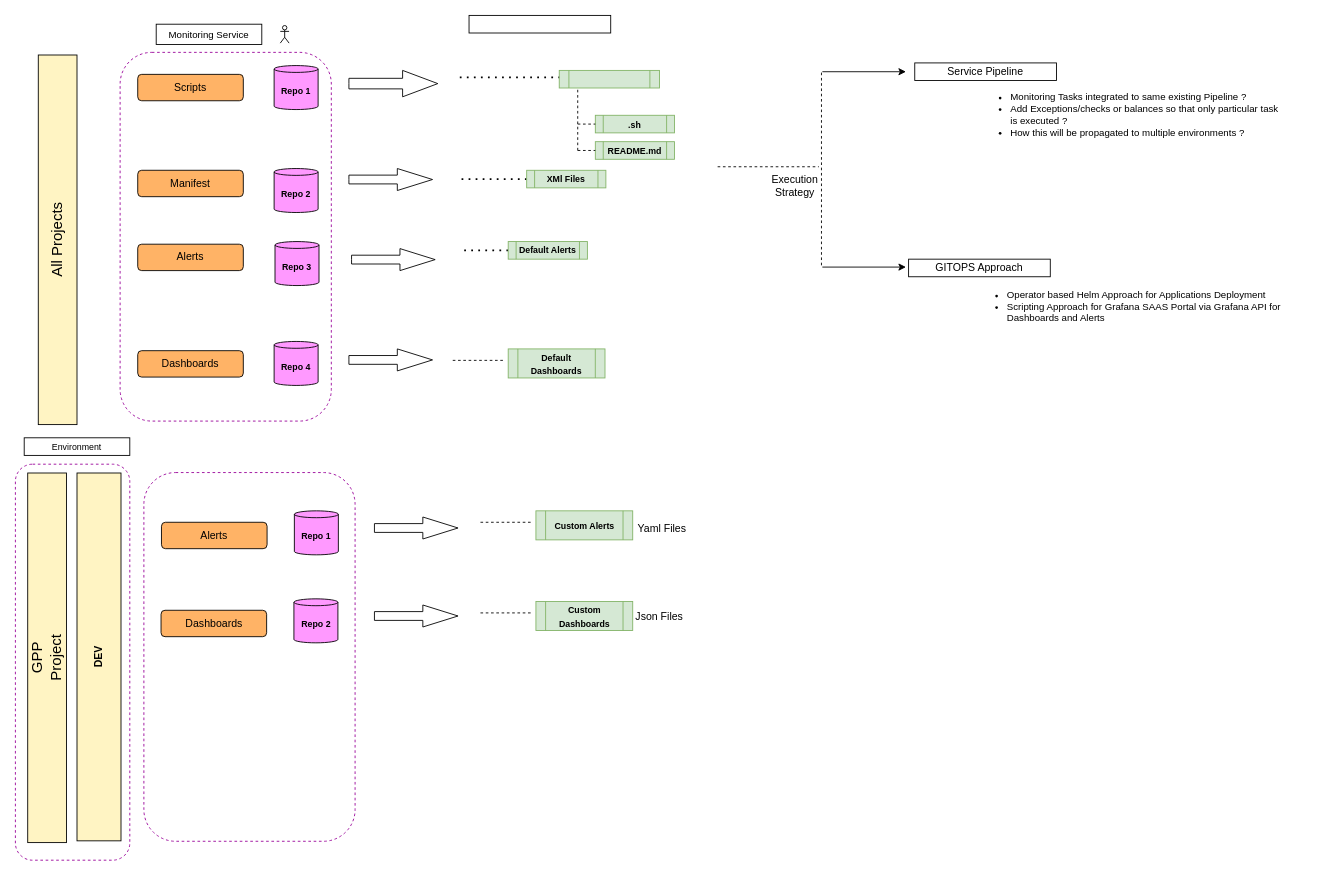
Image size: 1343x876. Some labels were removed from this diagram. Here are the shapes that lost their labels. From the top down, the centre of each, then its label:
At point (539, 24): "Repo Folder Structure".
At point (609, 79): "Custom Scripts".
